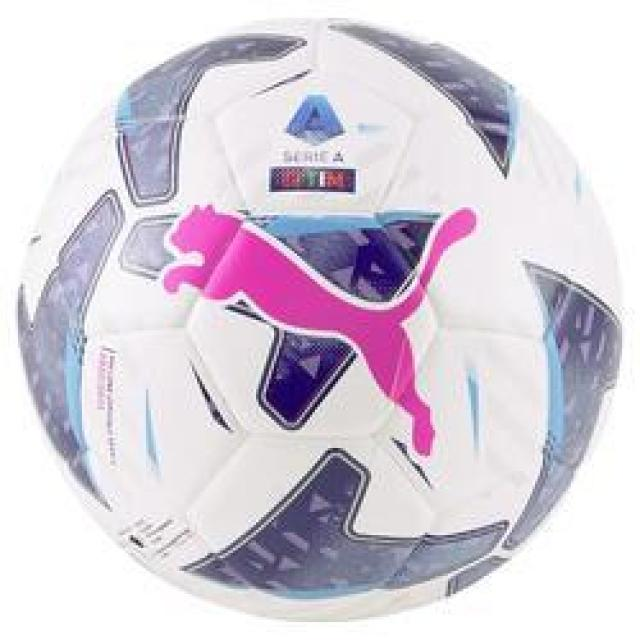ball: (11, 14, 639, 620)
